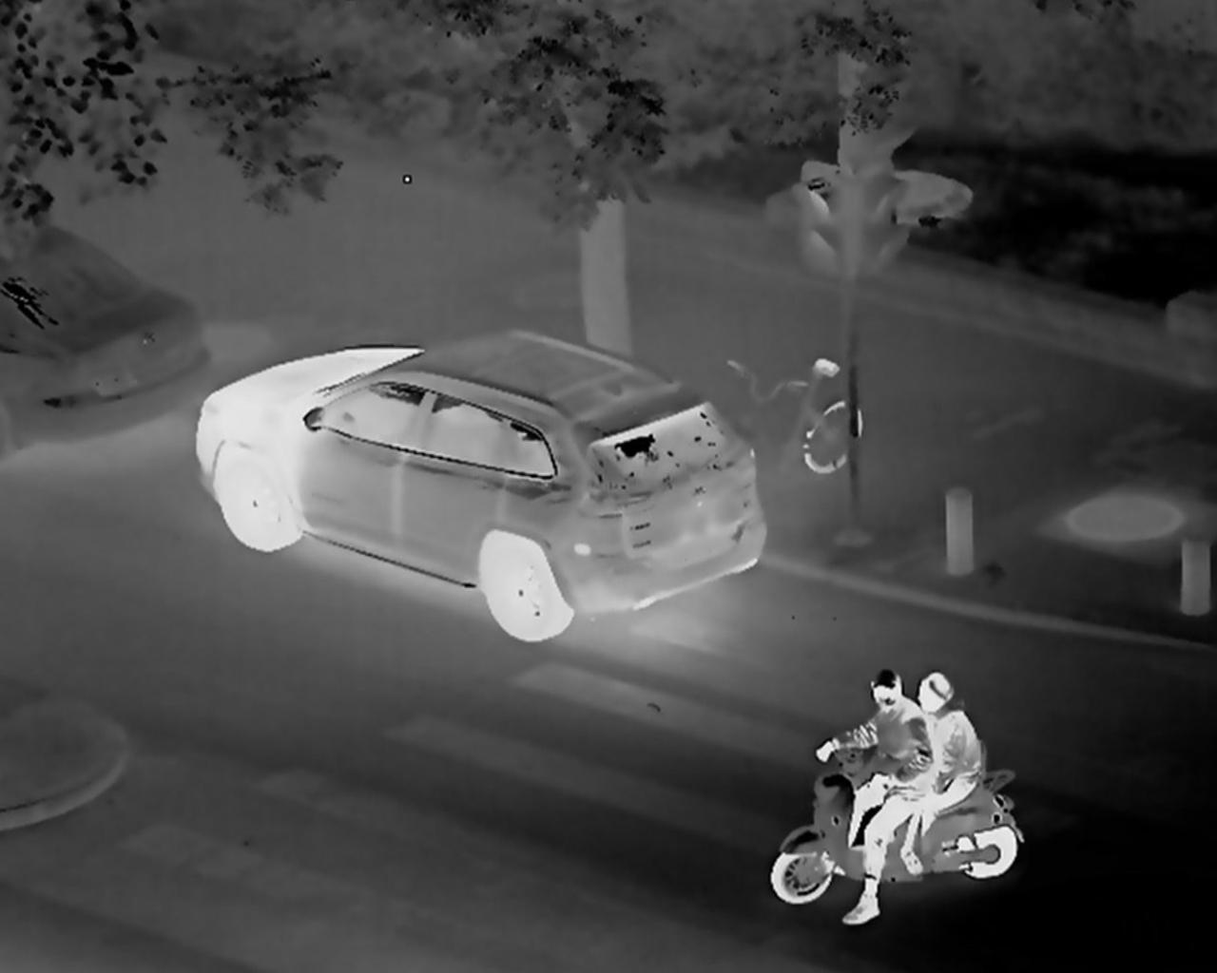person: (809, 671, 925, 927), (895, 676, 985, 872)
